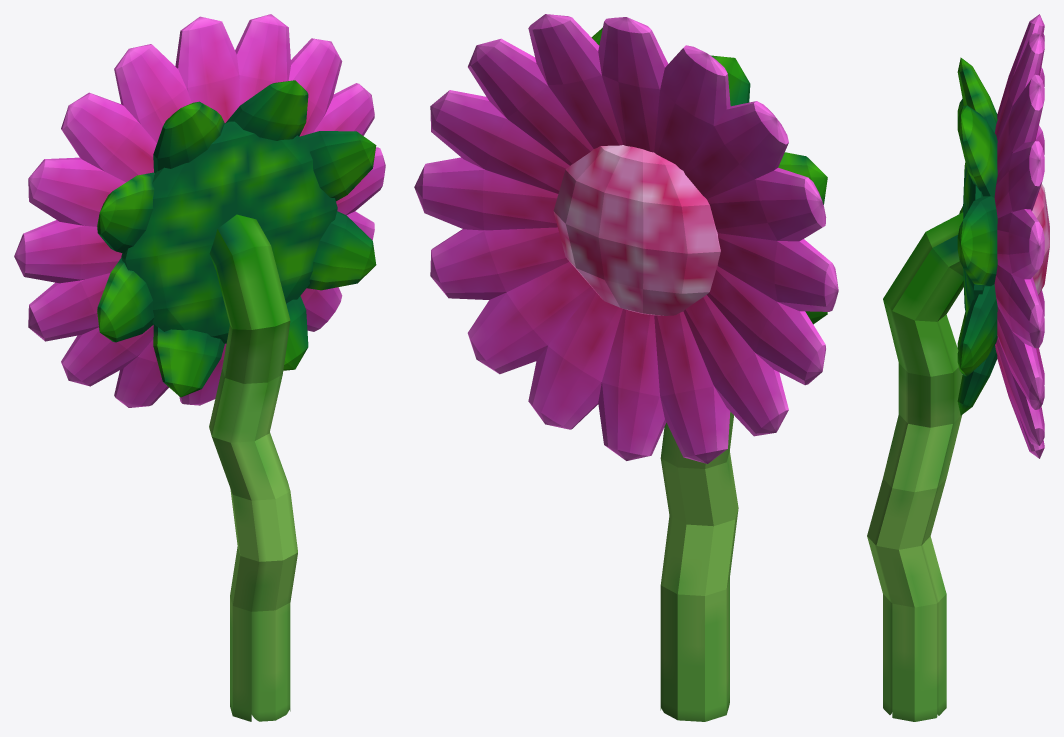
File: Pink_flower.fbx
The picture shows the model from 3 angles, left to right: view 1: azimuth 30°, elevation 25°; view 2: azimuth 150°, elevation 25°; view 3: azimuth 270°, elevation 25°; orthographic projection. The views are drawn at different scales.
Visible parts, largest first — view 1: torus, sphere_1, sphere_16, sphere_12, sphere_10, sphere_24, sphere_21, sphere_18, sphere_23, sphere_8, sphere_5, sphere_7 (+12 smaller); view 2: sphere, torus, sphere_17, sphere_19, sphere_25, sphere_11, sphere_13, sphere_22, sphere_20, sphere_15, sphere_14, sphere_23 (+8 smaller); view 3: torus, sphere_7, sphere_20, sphere_15, sphere_13, sphere_9, sphere_5, sphere_23, sphere_25, sphere_10, sphere_17, sphere_2 (+5 smaller).
Boxes of the visible parts, box(x1,y1,x2,y2) form: torus: box(209, 214, 297, 721); sphere_1: box(121, 121, 337, 343); sphere_16: box(61, 92, 156, 182); sphere_12: box(14, 220, 122, 283); sphere_10: box(175, 16, 239, 122); sphere_24: box(28, 157, 125, 226); sphere_21: box(114, 44, 191, 142); sphere_18: box(28, 273, 110, 341); sphere_23: box(235, 14, 290, 105); sphere_8: box(153, 324, 224, 397); sphere_5: box(307, 211, 376, 290); sphere_7: box(299, 131, 376, 201); sphere: box(553, 145, 720, 315); torus: box(660, 412, 738, 721); sphere_17: box(467, 262, 593, 374); sphere_19: box(528, 289, 622, 429); sphere_25: box(430, 227, 569, 299); sphere_11: box(598, 308, 666, 460); sphere_13: box(414, 157, 558, 230); sphere_22: box(654, 311, 730, 463); sphere_20: box(430, 90, 569, 193); sphere_15: box(468, 38, 593, 165); sphere_14: box(683, 295, 788, 436); sphere_23: box(528, 14, 622, 148); torus: box(867, 212, 963, 721); sphere_7: box(957, 196, 997, 286); sphere_20: box(997, 209, 1044, 279); sphere_15: box(994, 141, 1044, 218); sphere_13: box(994, 265, 1044, 348); sphere_9: box(957, 105, 997, 197); sphere_5: box(957, 284, 997, 376); sphere_23: box(997, 74, 1044, 174); sphere_25: box(997, 307, 1044, 409); sphere_10: box(995, 33, 1044, 140); sphere_17: box(995, 338, 1044, 445); sphere_2: box(957, 57, 997, 132).
Bounding box in the file's own units: 175 × 292 × 71.87.
1 material, 1 textured.
